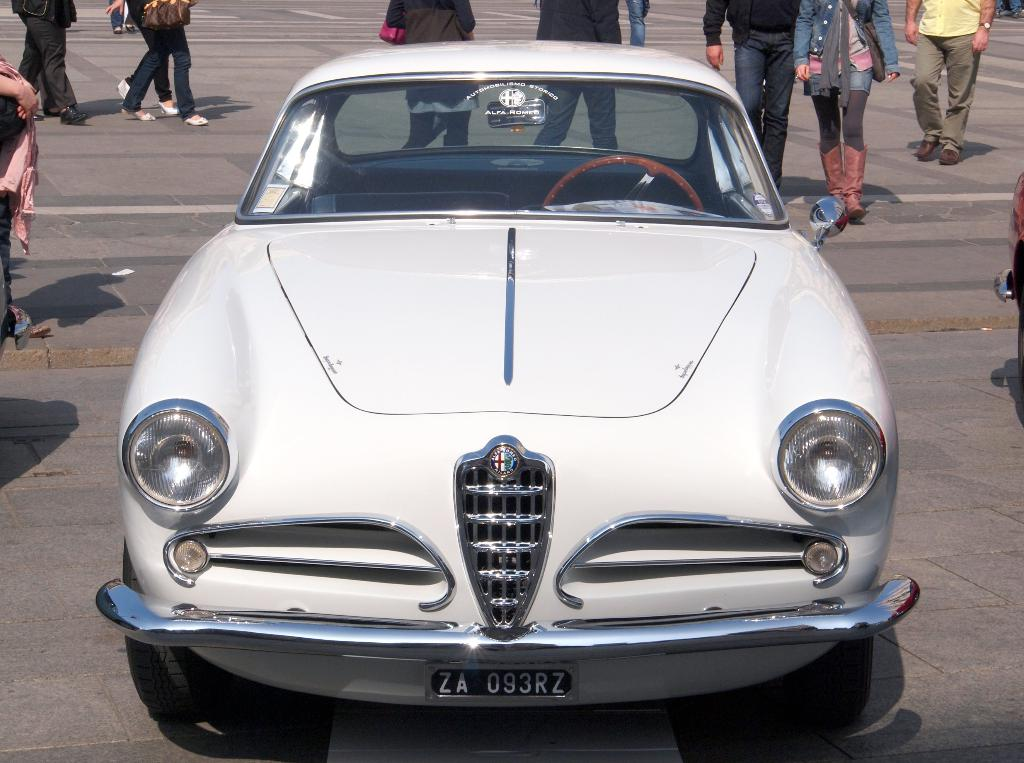Car: (88, 34, 920, 720)
